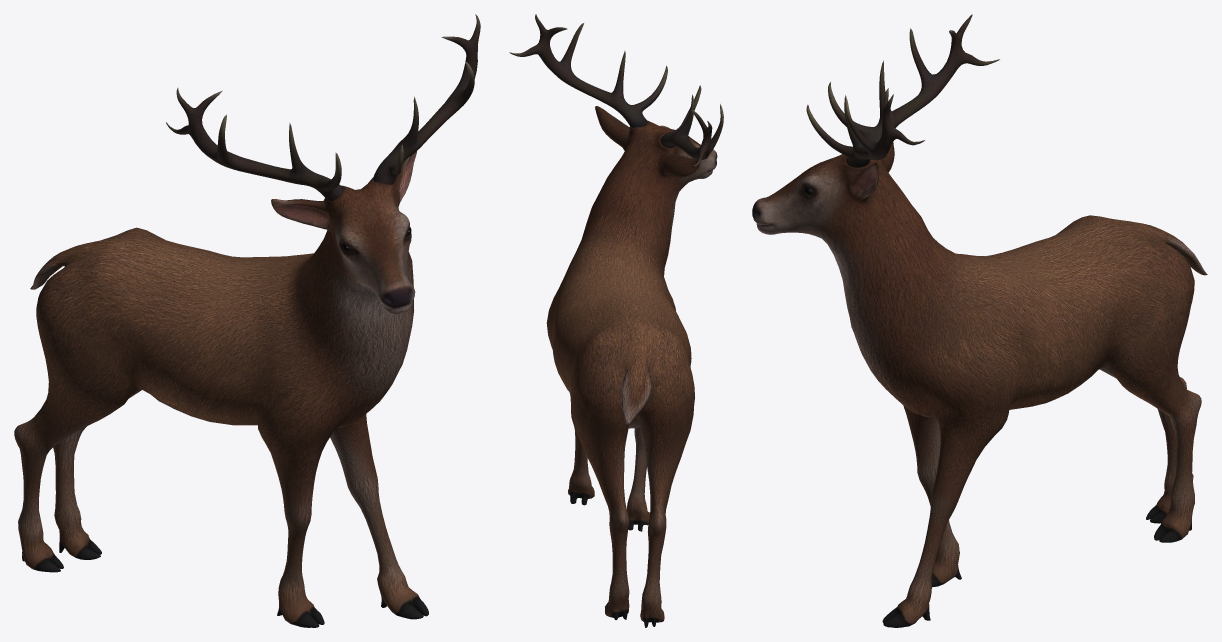
File: deer.glb
3 views of the same model, side by side, from view 1: azimuth 30°, elevation 25°; view 2: azimuth 150°, elevation 25°; view 3: azimuth 270°, elevation 25° (orthographic). The views are drawn at different scales.
Visible parts, largest first — view 1: node_id150; view 2: node_id150; view 3: node_id150.
Part boxes in pixels (left/top/right/bottom): node_id150: left=14, top=14, right=480, bottom=627; node_id150: left=509, top=14, right=723, bottom=627; node_id150: left=752, top=14, right=1207, bottom=627.
Size of the model in its own units: 0.3002 by 0.512 by 0.3787.
Materials: 1 (1 with a texture image).
